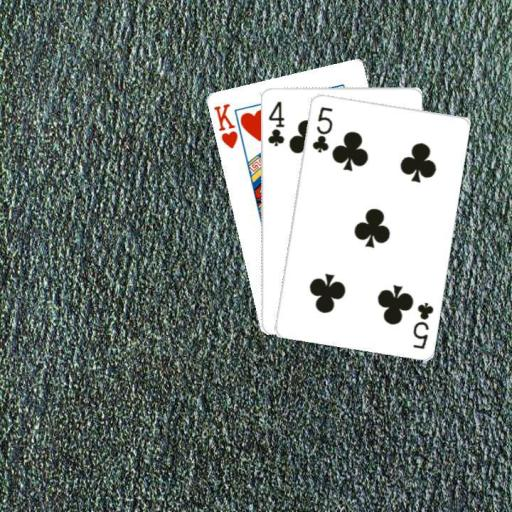4C: (265, 98, 285, 148)
5C: (409, 299, 435, 350), (309, 103, 334, 154)
KH: (210, 100, 239, 150)
